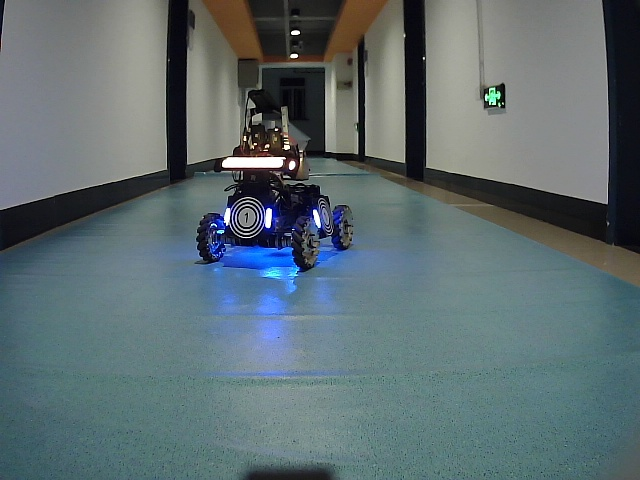lamp: (311, 208, 322, 229), (264, 207, 274, 228), (222, 208, 231, 228)
pair: (225, 207, 272, 228)
